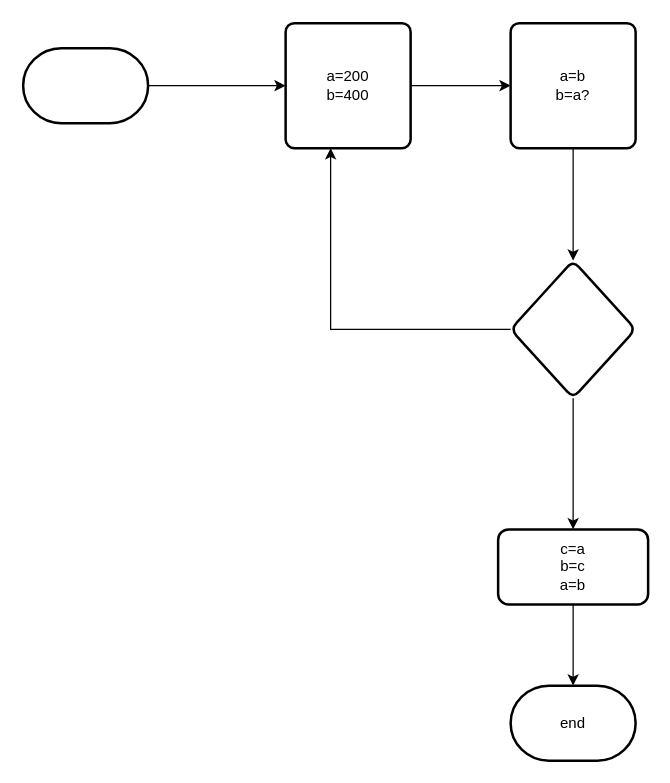
The diagram is 670 pixels wide and 783 high, and some of its shapes have lost their labels. Each missing label, with the centre of its shape:
"Start" goes at pixel 85 85.
"Tambah variabel baru" goes at pixel 572 329.
